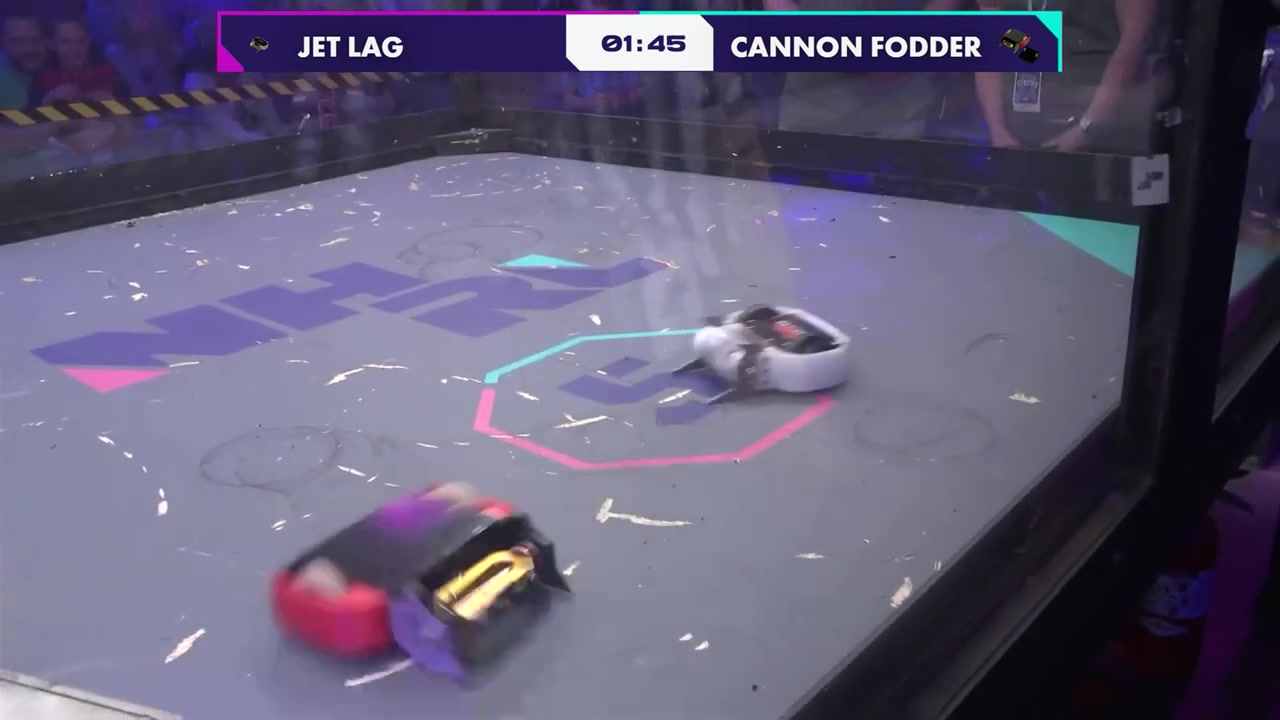combatbot: (273, 486, 577, 677), (674, 305, 855, 407)
